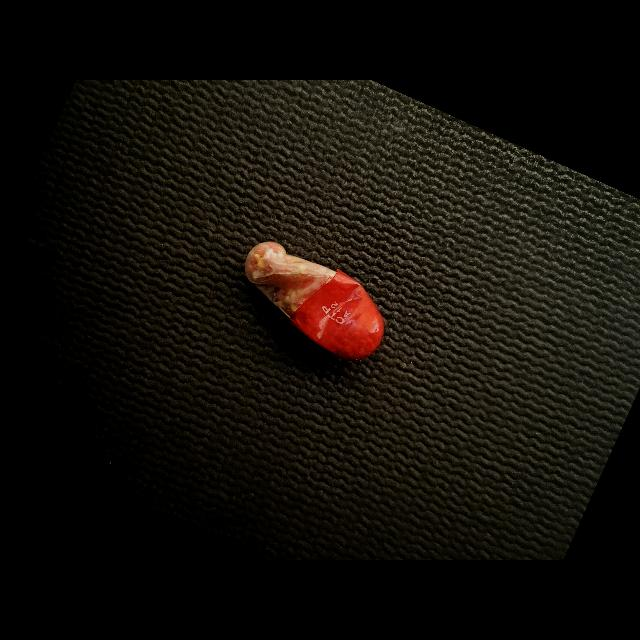Defective Capsule: (245, 242, 384, 359)
